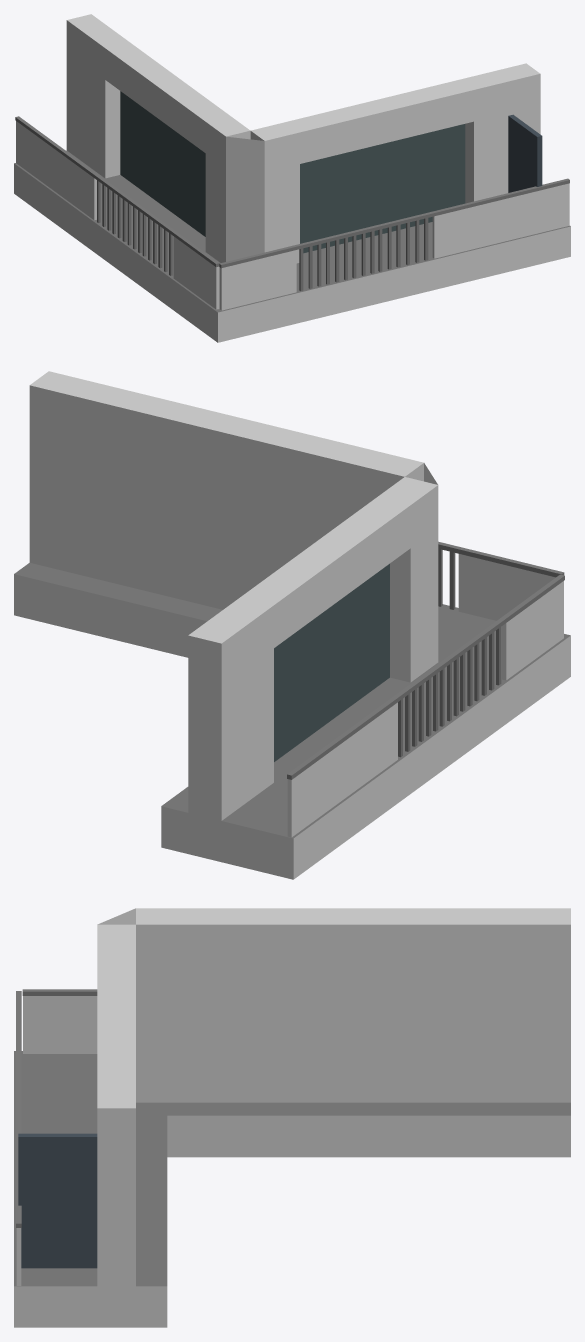
The model's file is mid-c1.fbx.
3 renders of one model, top to bottom at view 1: azimuth 30°, elevation 25°; view 2: azimuth 150°, elevation 25°; view 3: azimuth 270°, elevation 25°, orthographic. The views are drawn at different scales.
Parts seen in each view (by area): view 1: M_Corner.005; view 2: M_Corner.005; view 3: M_Corner.005.
Part boxes in pixels (x1,y1,x2,y2): M_Corner.005: (14, 14, 570, 342); M_Corner.005: (14, 371, 570, 879); M_Corner.005: (14, 908, 570, 1327).
Bounding box in the file's own units: 6.9 × 3 × 6.9.
